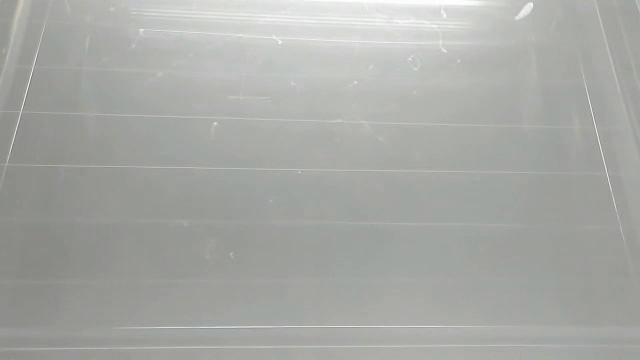alpha: (511, 1, 541, 24)
